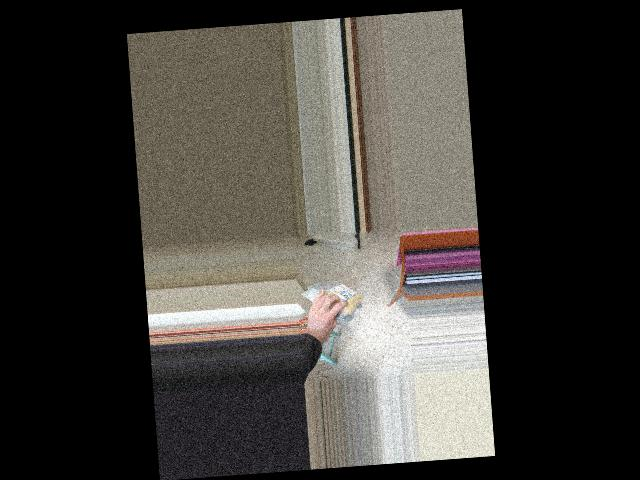cheese: (303, 282, 369, 314)
